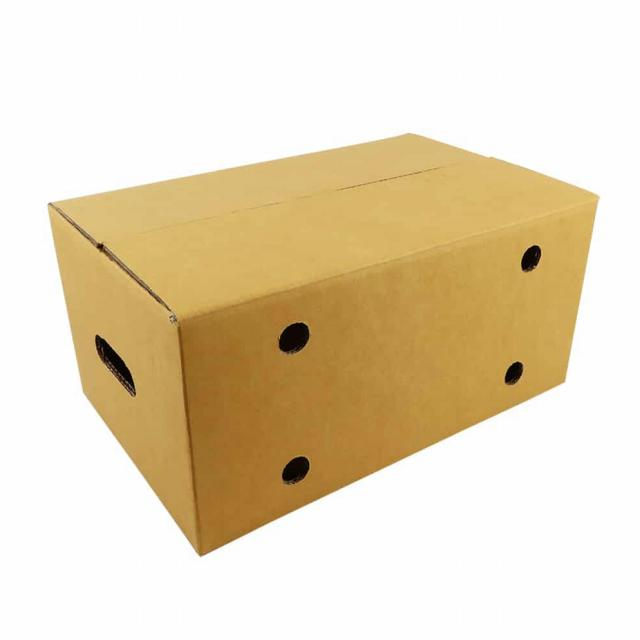box: (25, 110, 624, 591)
